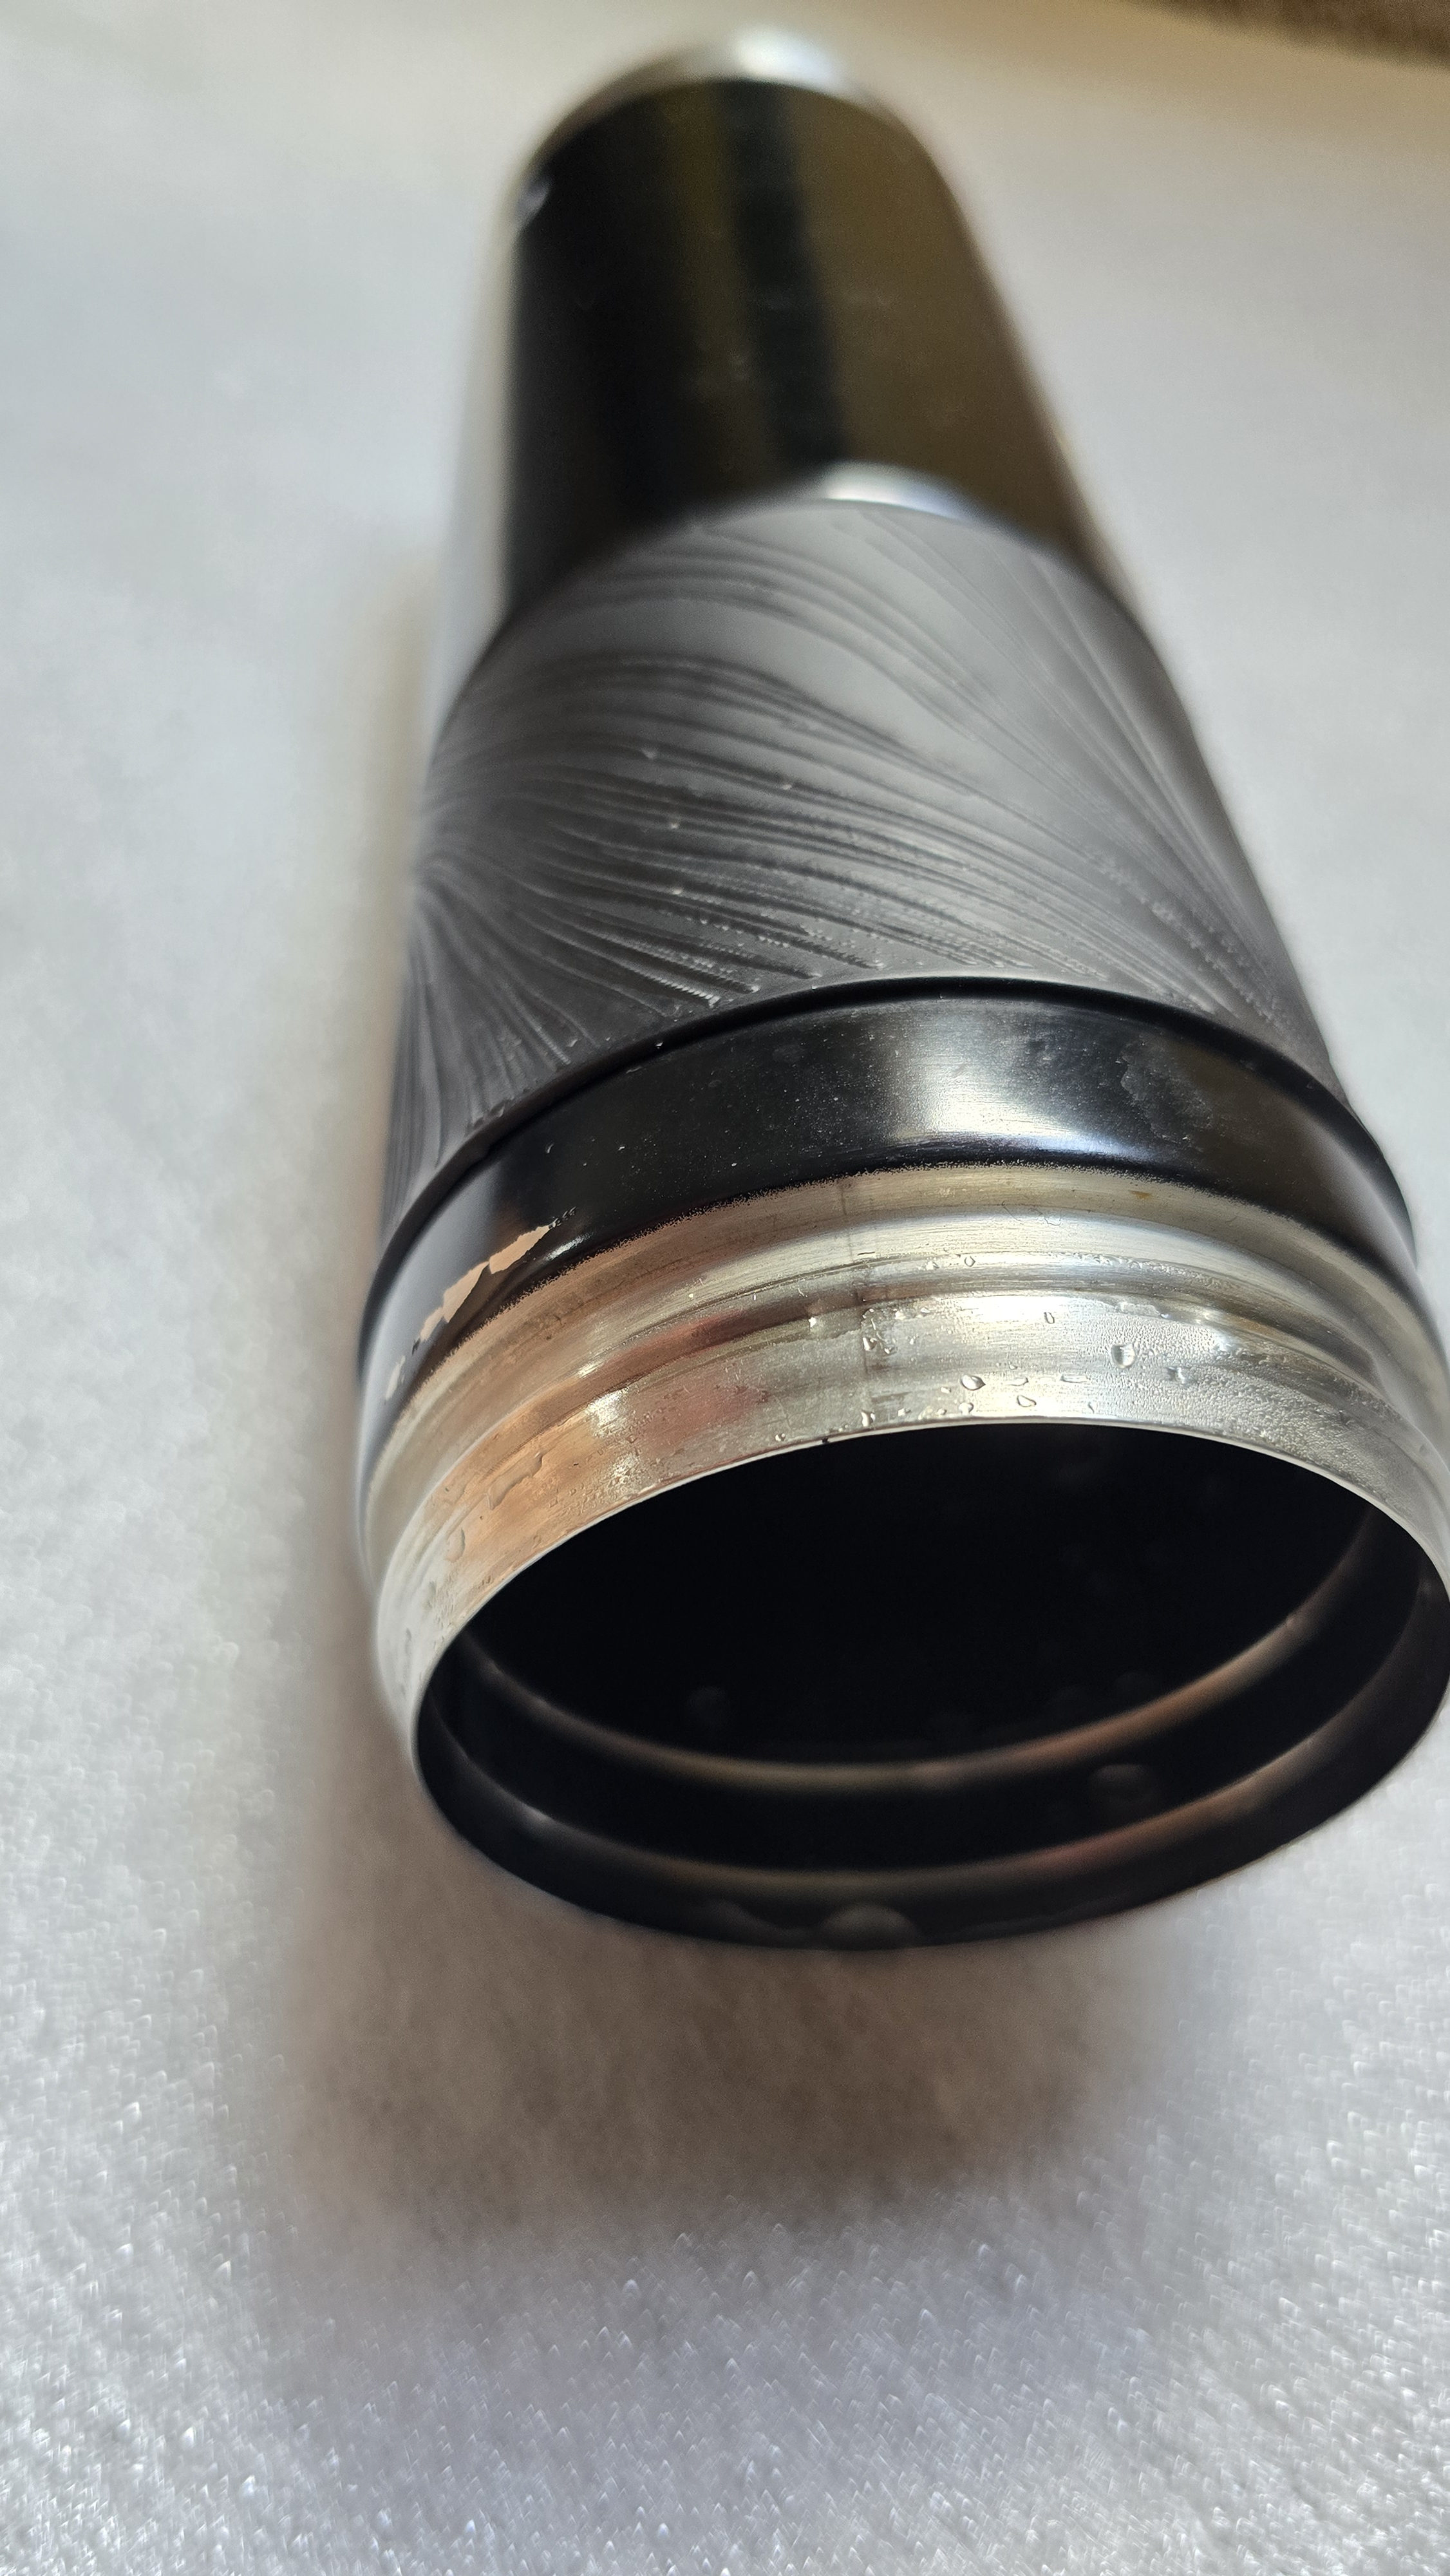bottle: (318, 12, 1450, 1989)
